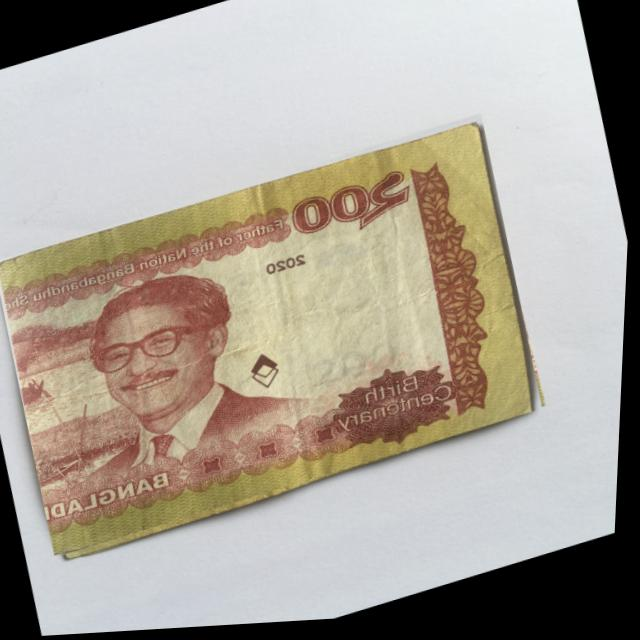Taka: (0, 115, 557, 561)
